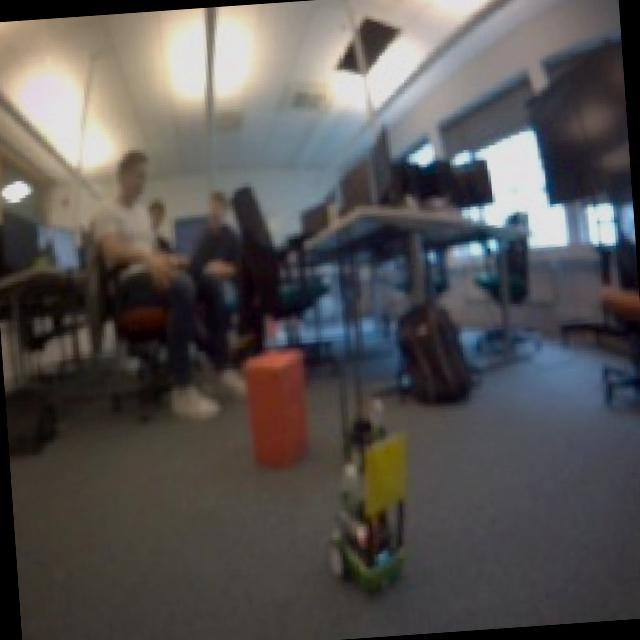robot: (320, 482, 418, 602), (331, 415, 394, 484)
target: (236, 342, 313, 468)
